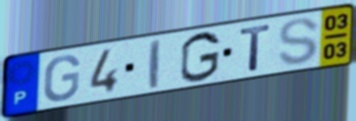4: (88, 46, 122, 96)
G: (179, 30, 223, 85), (41, 54, 82, 104)
I: (148, 37, 162, 91)
S: (276, 16, 321, 67)
T: (238, 22, 274, 73)
